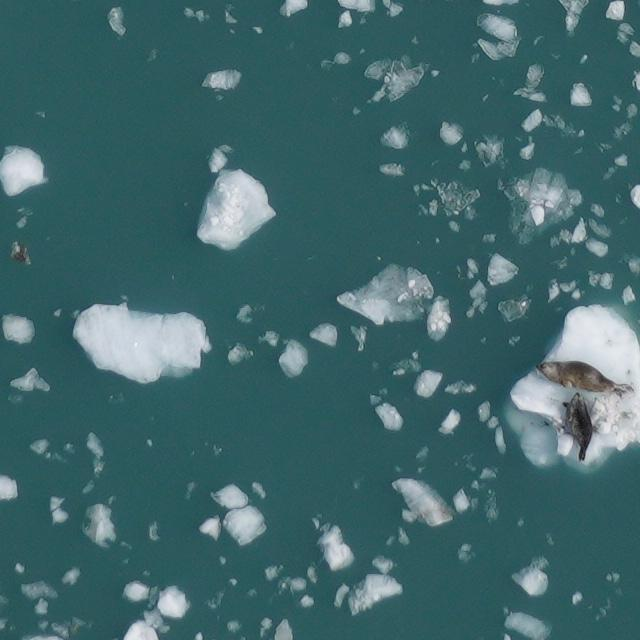seal: (535, 360, 633, 395), (564, 392, 593, 460)
